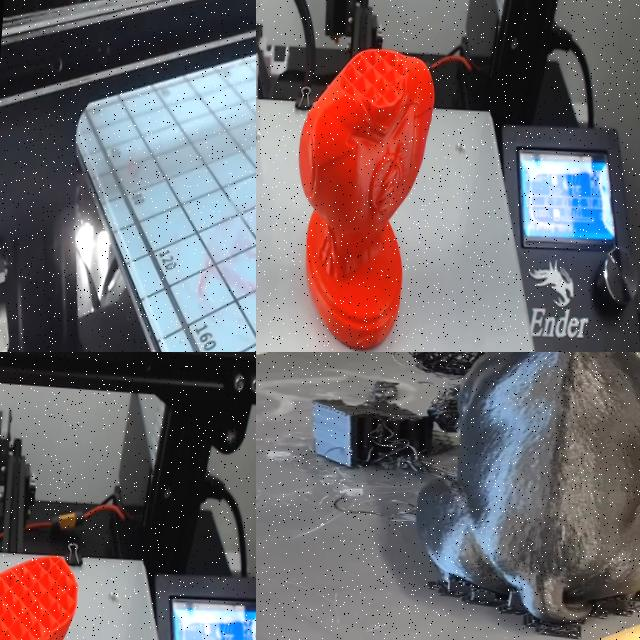spaghetti: (302, 372, 472, 481), (396, 352, 547, 392)
